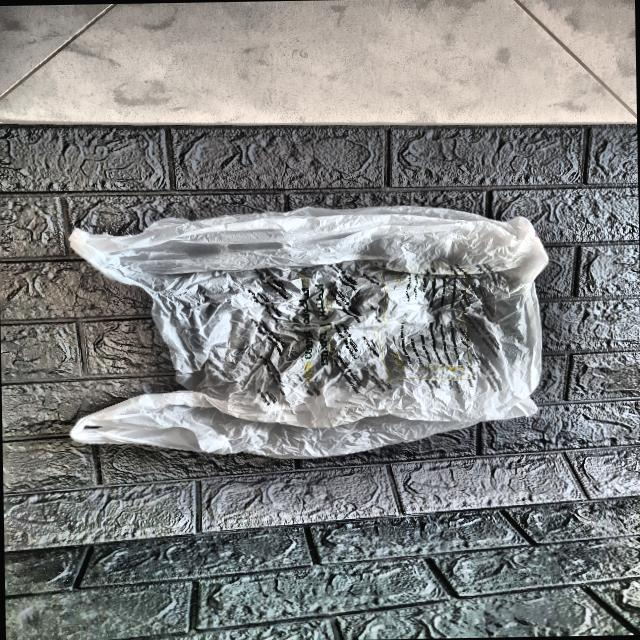plastic bag: (47, 202, 596, 478)
